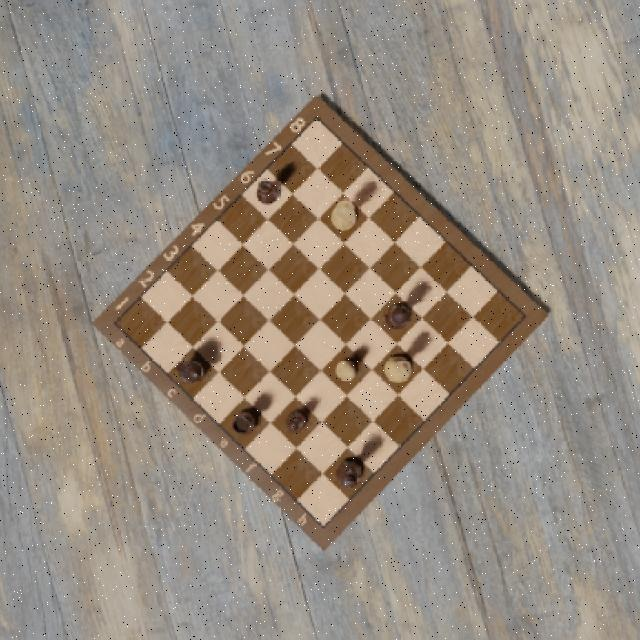black-bishop: (255, 178, 281, 206)
black-king: (335, 455, 367, 491)
black-knight: (173, 355, 207, 385)
black-pawn: (284, 407, 308, 432)
black-queen: (384, 301, 411, 330)
black-rook: (232, 408, 260, 436)
white-king: (382, 353, 414, 387)
white-pawn: (334, 357, 358, 384)
white-queen: (328, 198, 359, 234)
